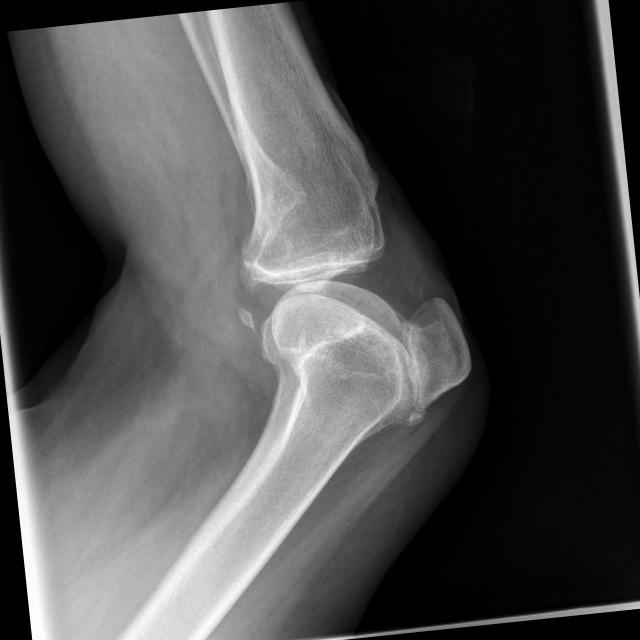Knee: (218, 181, 480, 440)
